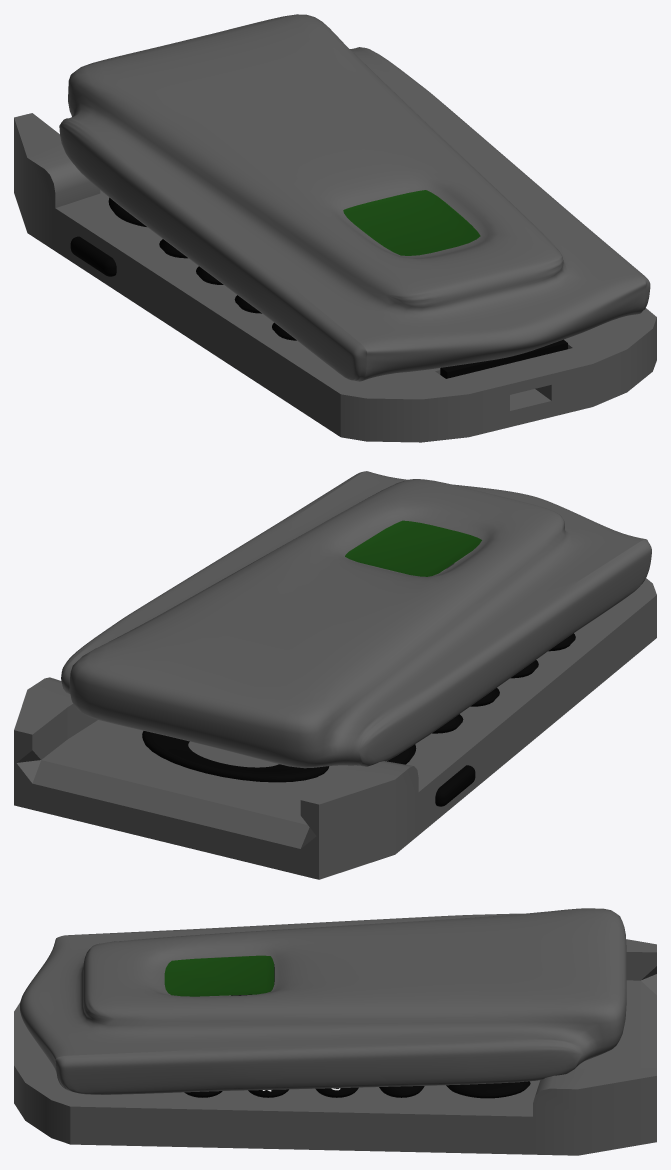
The model's file is FlipPhone.glb.
3 views of the same model, one above another, from view 1: azimuth 30°, elevation 25°; view 2: azimuth 150°, elevation 25°; view 3: azimuth 270°, elevation 25° (orthographic). The views are drawn at different scales.
Parts seen in each view (by area): view 1: PhoneTop, PhoneBottom, ScreenSm, SideButton; view 2: PhoneTop, PhoneBottom, ScreenSm, Direction, SideButton; view 3: PhoneTop, PhoneBottom, ScreenSm, R, 3.
Boxes of the visible parts, <box> form: PhoneTop: <box>59,14,650,381</box>; PhoneBottom: <box>14,113,656,442</box>; ScreenSm: <box>343,190,480,255</box>; SideButton: <box>70,236,116,276</box>; PhoneTop: <box>61,471,651,768</box>; PhoneBottom: <box>14,578,656,879</box>; ScreenSm: <box>345,520,481,576</box>; Direction: <box>142,731,329,782</box>; SideButton: <box>435,765,475,806</box>; PhoneTop: <box>20,908,626,1094</box>; PhoneBottom: <box>14,939,656,1155</box>; ScreenSm: <box>164,955,273,996</box>; R: <box>446,1081,530,1098</box>; 3: <box>379,1086,424,1097</box>.
Size of the model in its own units: 0.2996 by 0.1055 by 0.5083.
